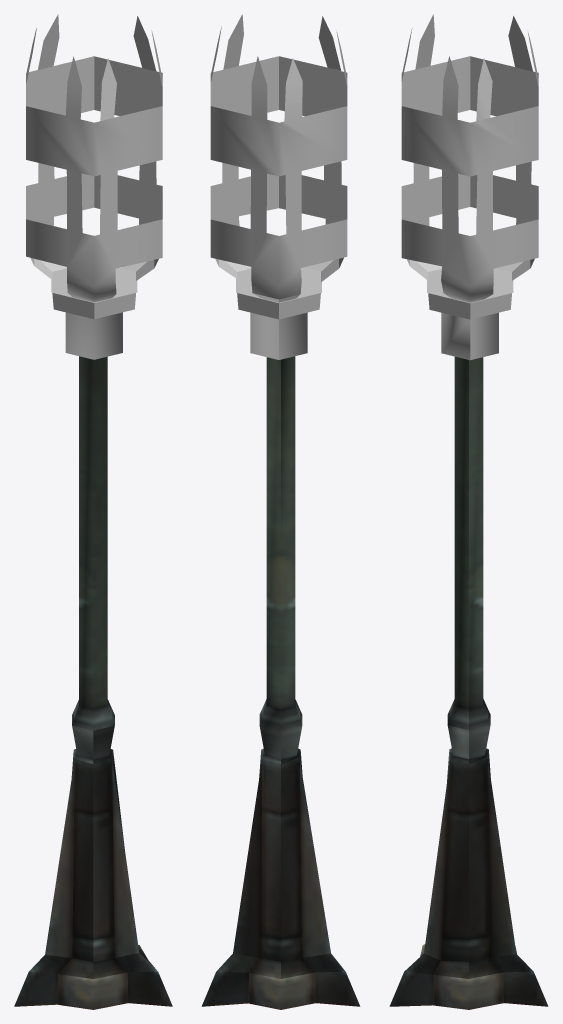
The model's file is 2_YiZhan_ZaWu_HuoJu_01.FBX.
The picture shows the model from 3 angles, left to right: view 1: azimuth 30°, elevation 25°; view 2: azimuth 150°, elevation 25°; view 3: azimuth 270°, elevation 25°; orthographic projection.
Visible parts, largest first — view 1: 2_YiZhan_ZaWu_HuoJu_02, 2_YiZhan_ZaWu_HuoJu_01; view 2: 2_YiZhan_ZaWu_HuoJu_02, 2_YiZhan_ZaWu_HuoJu_01; view 3: 2_YiZhan_ZaWu_HuoJu_02, 2_YiZhan_ZaWu_HuoJu_01.
Boxes of the visible parts, <box> form: 2_YiZhan_ZaWu_HuoJu_02: <box>26,14,162,359</box>; 2_YiZhan_ZaWu_HuoJu_01: <box>14,356,172,1009</box>; 2_YiZhan_ZaWu_HuoJu_02: <box>210,14,347,359</box>; 2_YiZhan_ZaWu_HuoJu_01: <box>201,356,360,1009</box>; 2_YiZhan_ZaWu_HuoJu_02: <box>401,14,538,360</box>; 2_YiZhan_ZaWu_HuoJu_01: <box>389,356,548,1009</box>.
Size of the model in its own units: 94.88 by 580 by 87.54.
